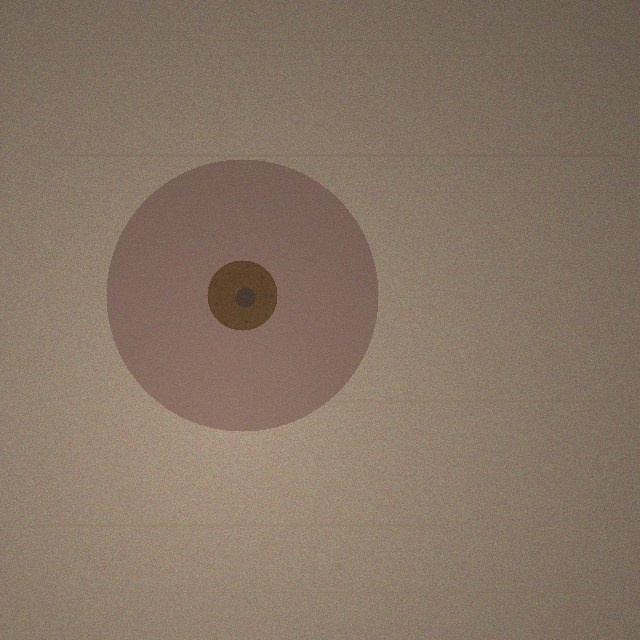cold_weld: (106, 159, 378, 431)
